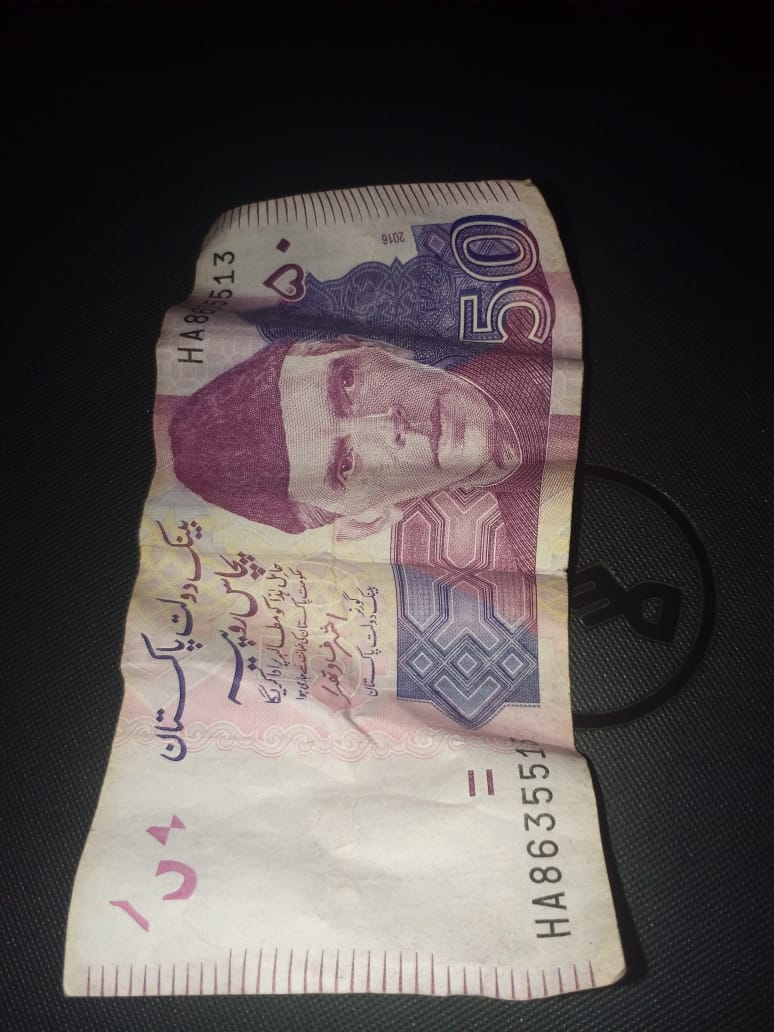50 rupee: (86, 134, 650, 1032)
